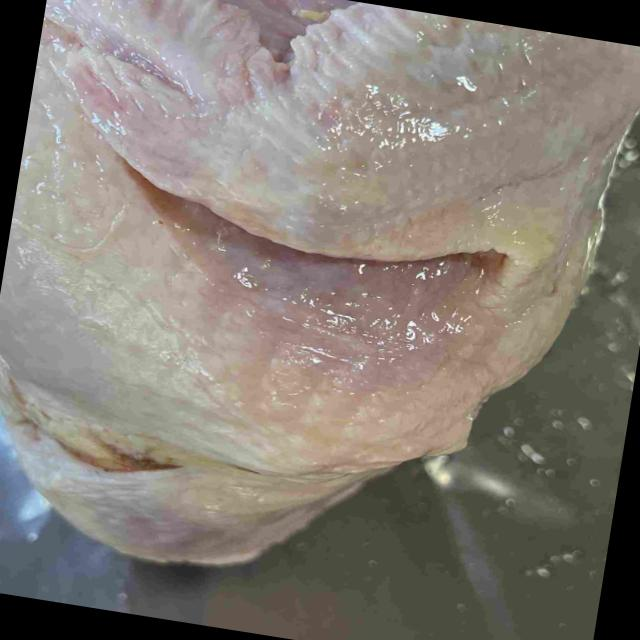wing: (45, 0, 640, 288)
